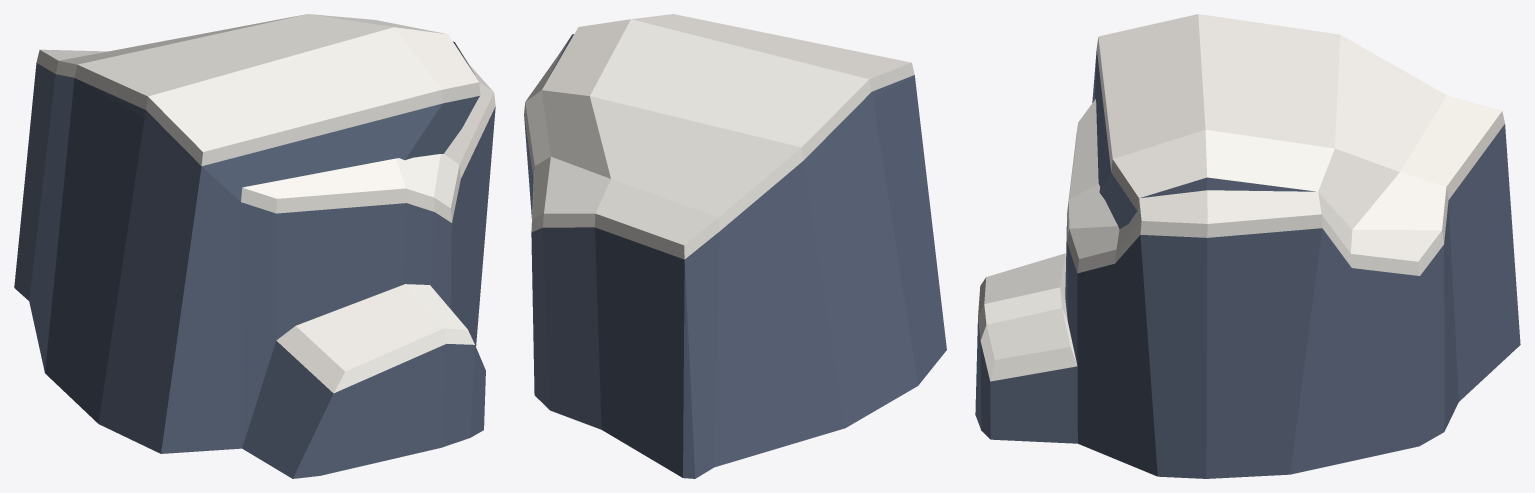
The model's file is Rock_Snow_6.glb.
3 views of the same model, side by side, from view 1: azimuth 30°, elevation 25°; view 2: azimuth 150°, elevation 25°; view 3: azimuth 270°, elevation 25° (orthographic). The views are drawn at different scales.
Parts seen in each view (by area): view 1: Rock_Snow_6; view 2: Rock_Snow_6; view 3: Rock_Snow_6.
Part boxes in pixels (x1=…): Rock_Snow_6: x1=14, y1=14, x2=495, y2=478; Rock_Snow_6: x1=524, y1=14, x2=946, y2=478; Rock_Snow_6: x1=975, y1=14, x2=1520, y2=478.
Bounding box in the file's own units: 0.912 × 0.7372 × 1.14.
